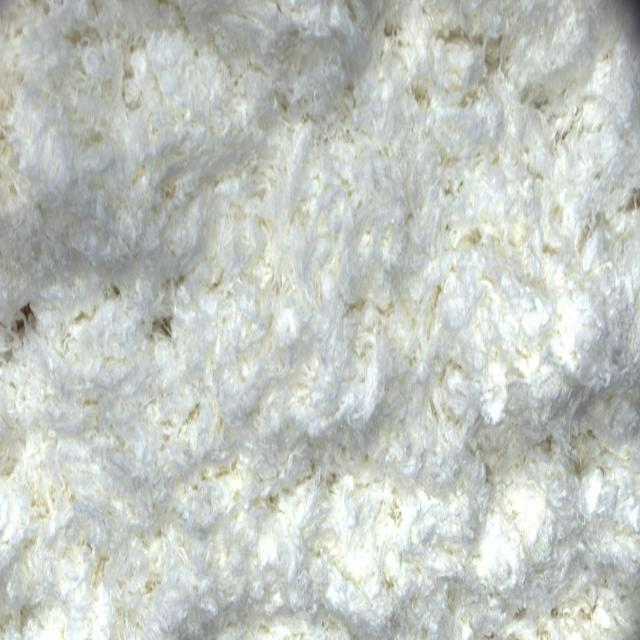dust: (12, 306, 38, 342), (155, 316, 175, 346)
